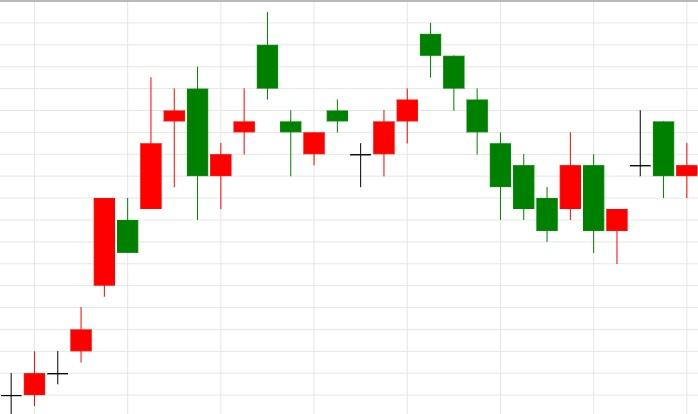bearish_engulfing_fall: (0, 66, 209, 414)
three_black_crows_fall: (350, 22, 489, 187)
